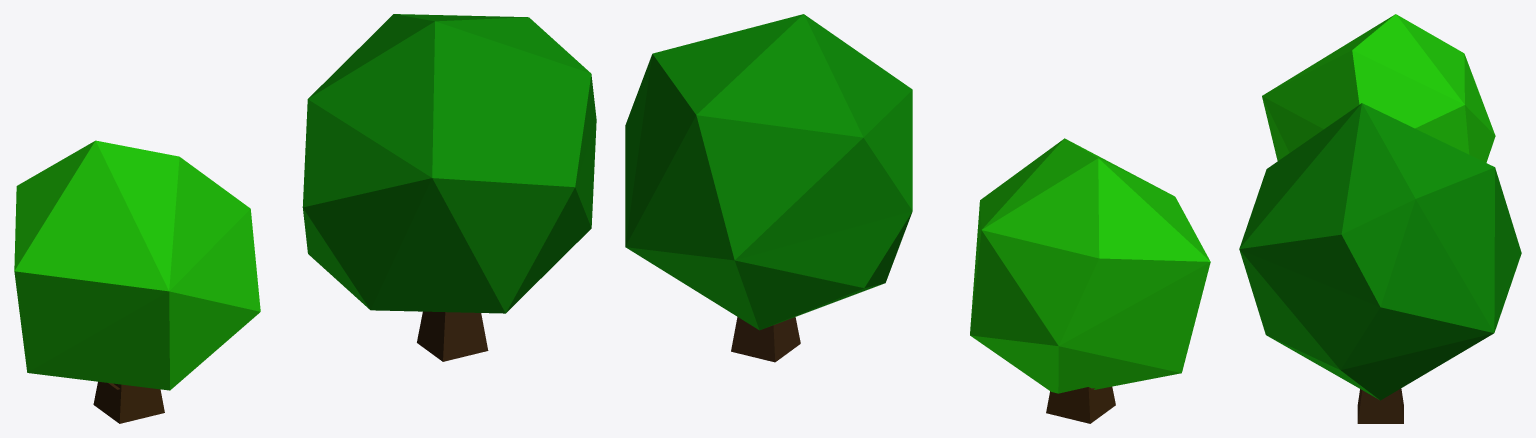
File: Bush (2).fbx
The picture shows the model from 3 angles, left to right: view 1: azimuth 30°, elevation 25°; view 2: azimuth 150°, elevation 25°; view 3: azimuth 270°, elevation 25°; orthographic projection. The views are drawn at different scales.
Visible parts, largest first — view 1: Bush2, Bush1; view 2: Bush2, Bush1; view 3: Bush2, Bush1.
Part boxes in pixels (box(x1,y1,x2,y2)): Bush2: box(302, 14, 596, 361); Bush1: box(14, 140, 260, 423); Bush2: box(625, 14, 912, 362); Bush1: box(970, 138, 1210, 423); Bush2: box(1239, 103, 1521, 423); Bush1: box(1262, 14, 1495, 162).
Bounding box in the file's own units: 516 × 284 × 243.
